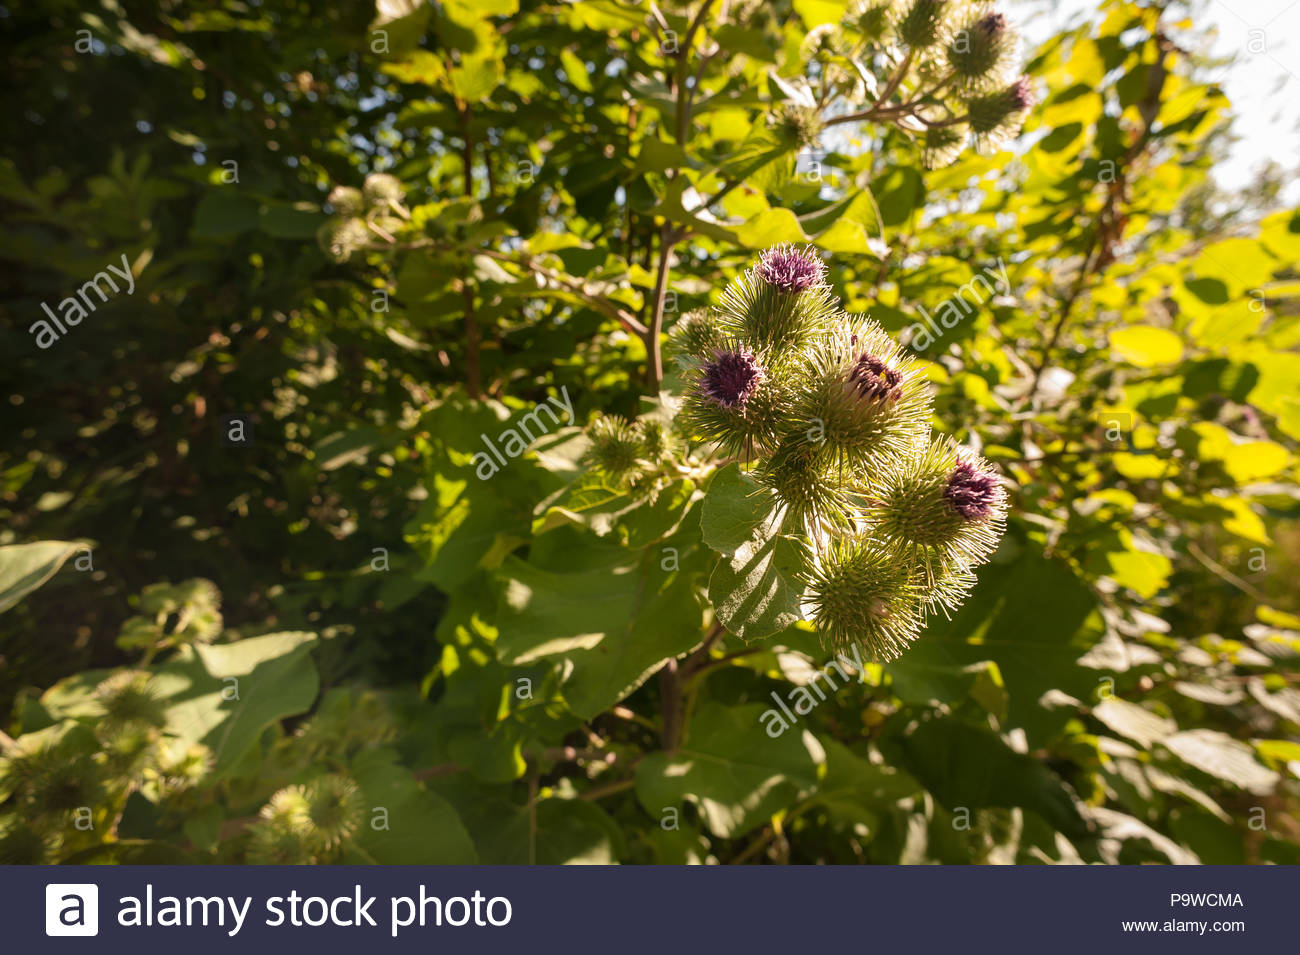thistle: (875, 432, 1008, 551), (793, 334, 910, 459), (671, 336, 787, 454), (727, 233, 829, 346)
